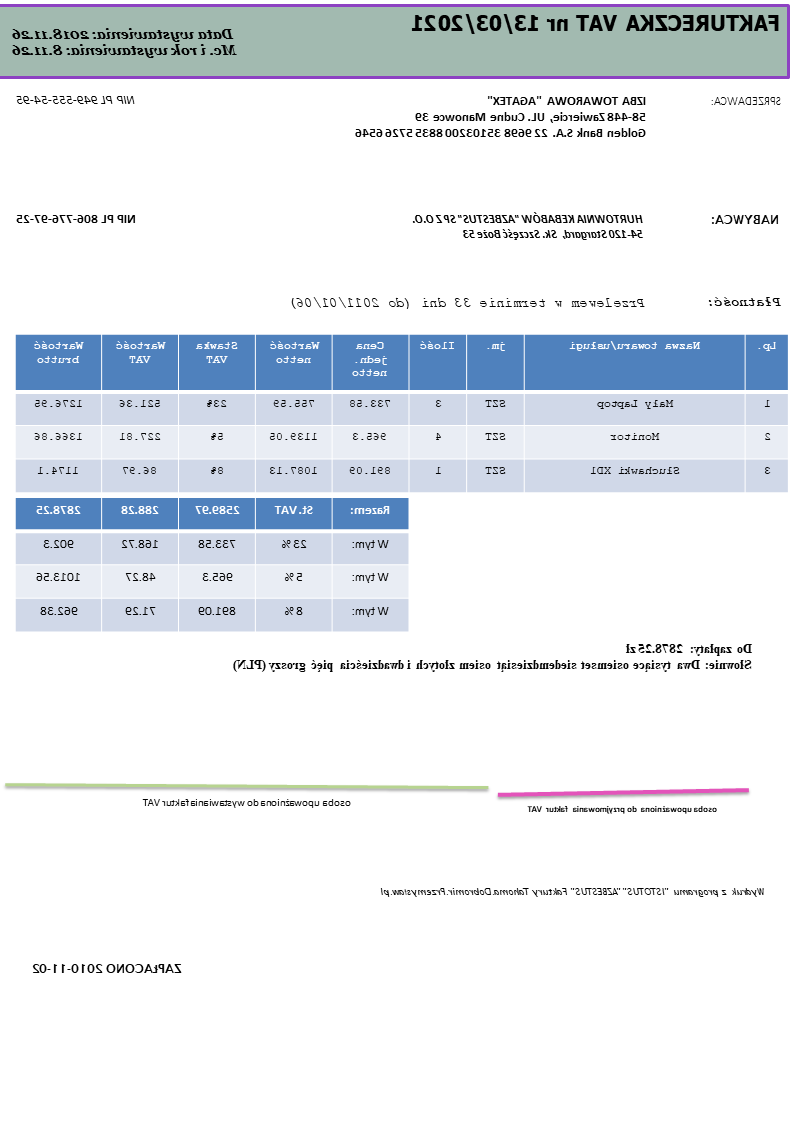Table: (14, 332, 790, 495), (15, 497, 410, 633)
TextBox: (230, 640, 755, 675), (353, 93, 649, 141), (410, 11, 783, 37), (11, 25, 241, 60), (410, 212, 645, 241), (378, 884, 767, 900), (288, 295, 646, 312), (142, 796, 354, 810), (527, 802, 720, 816), (32, 959, 185, 976), (16, 212, 139, 226), (15, 93, 137, 107), (706, 293, 783, 310), (710, 92, 783, 109), (711, 211, 782, 227)
